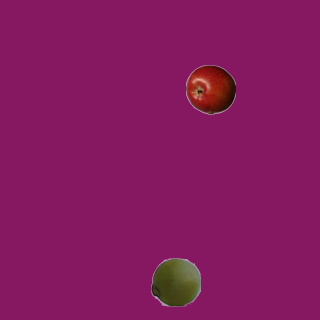Apple Braeburn: (185, 64, 235, 114)
Grape White 4: (150, 256, 200, 306)
